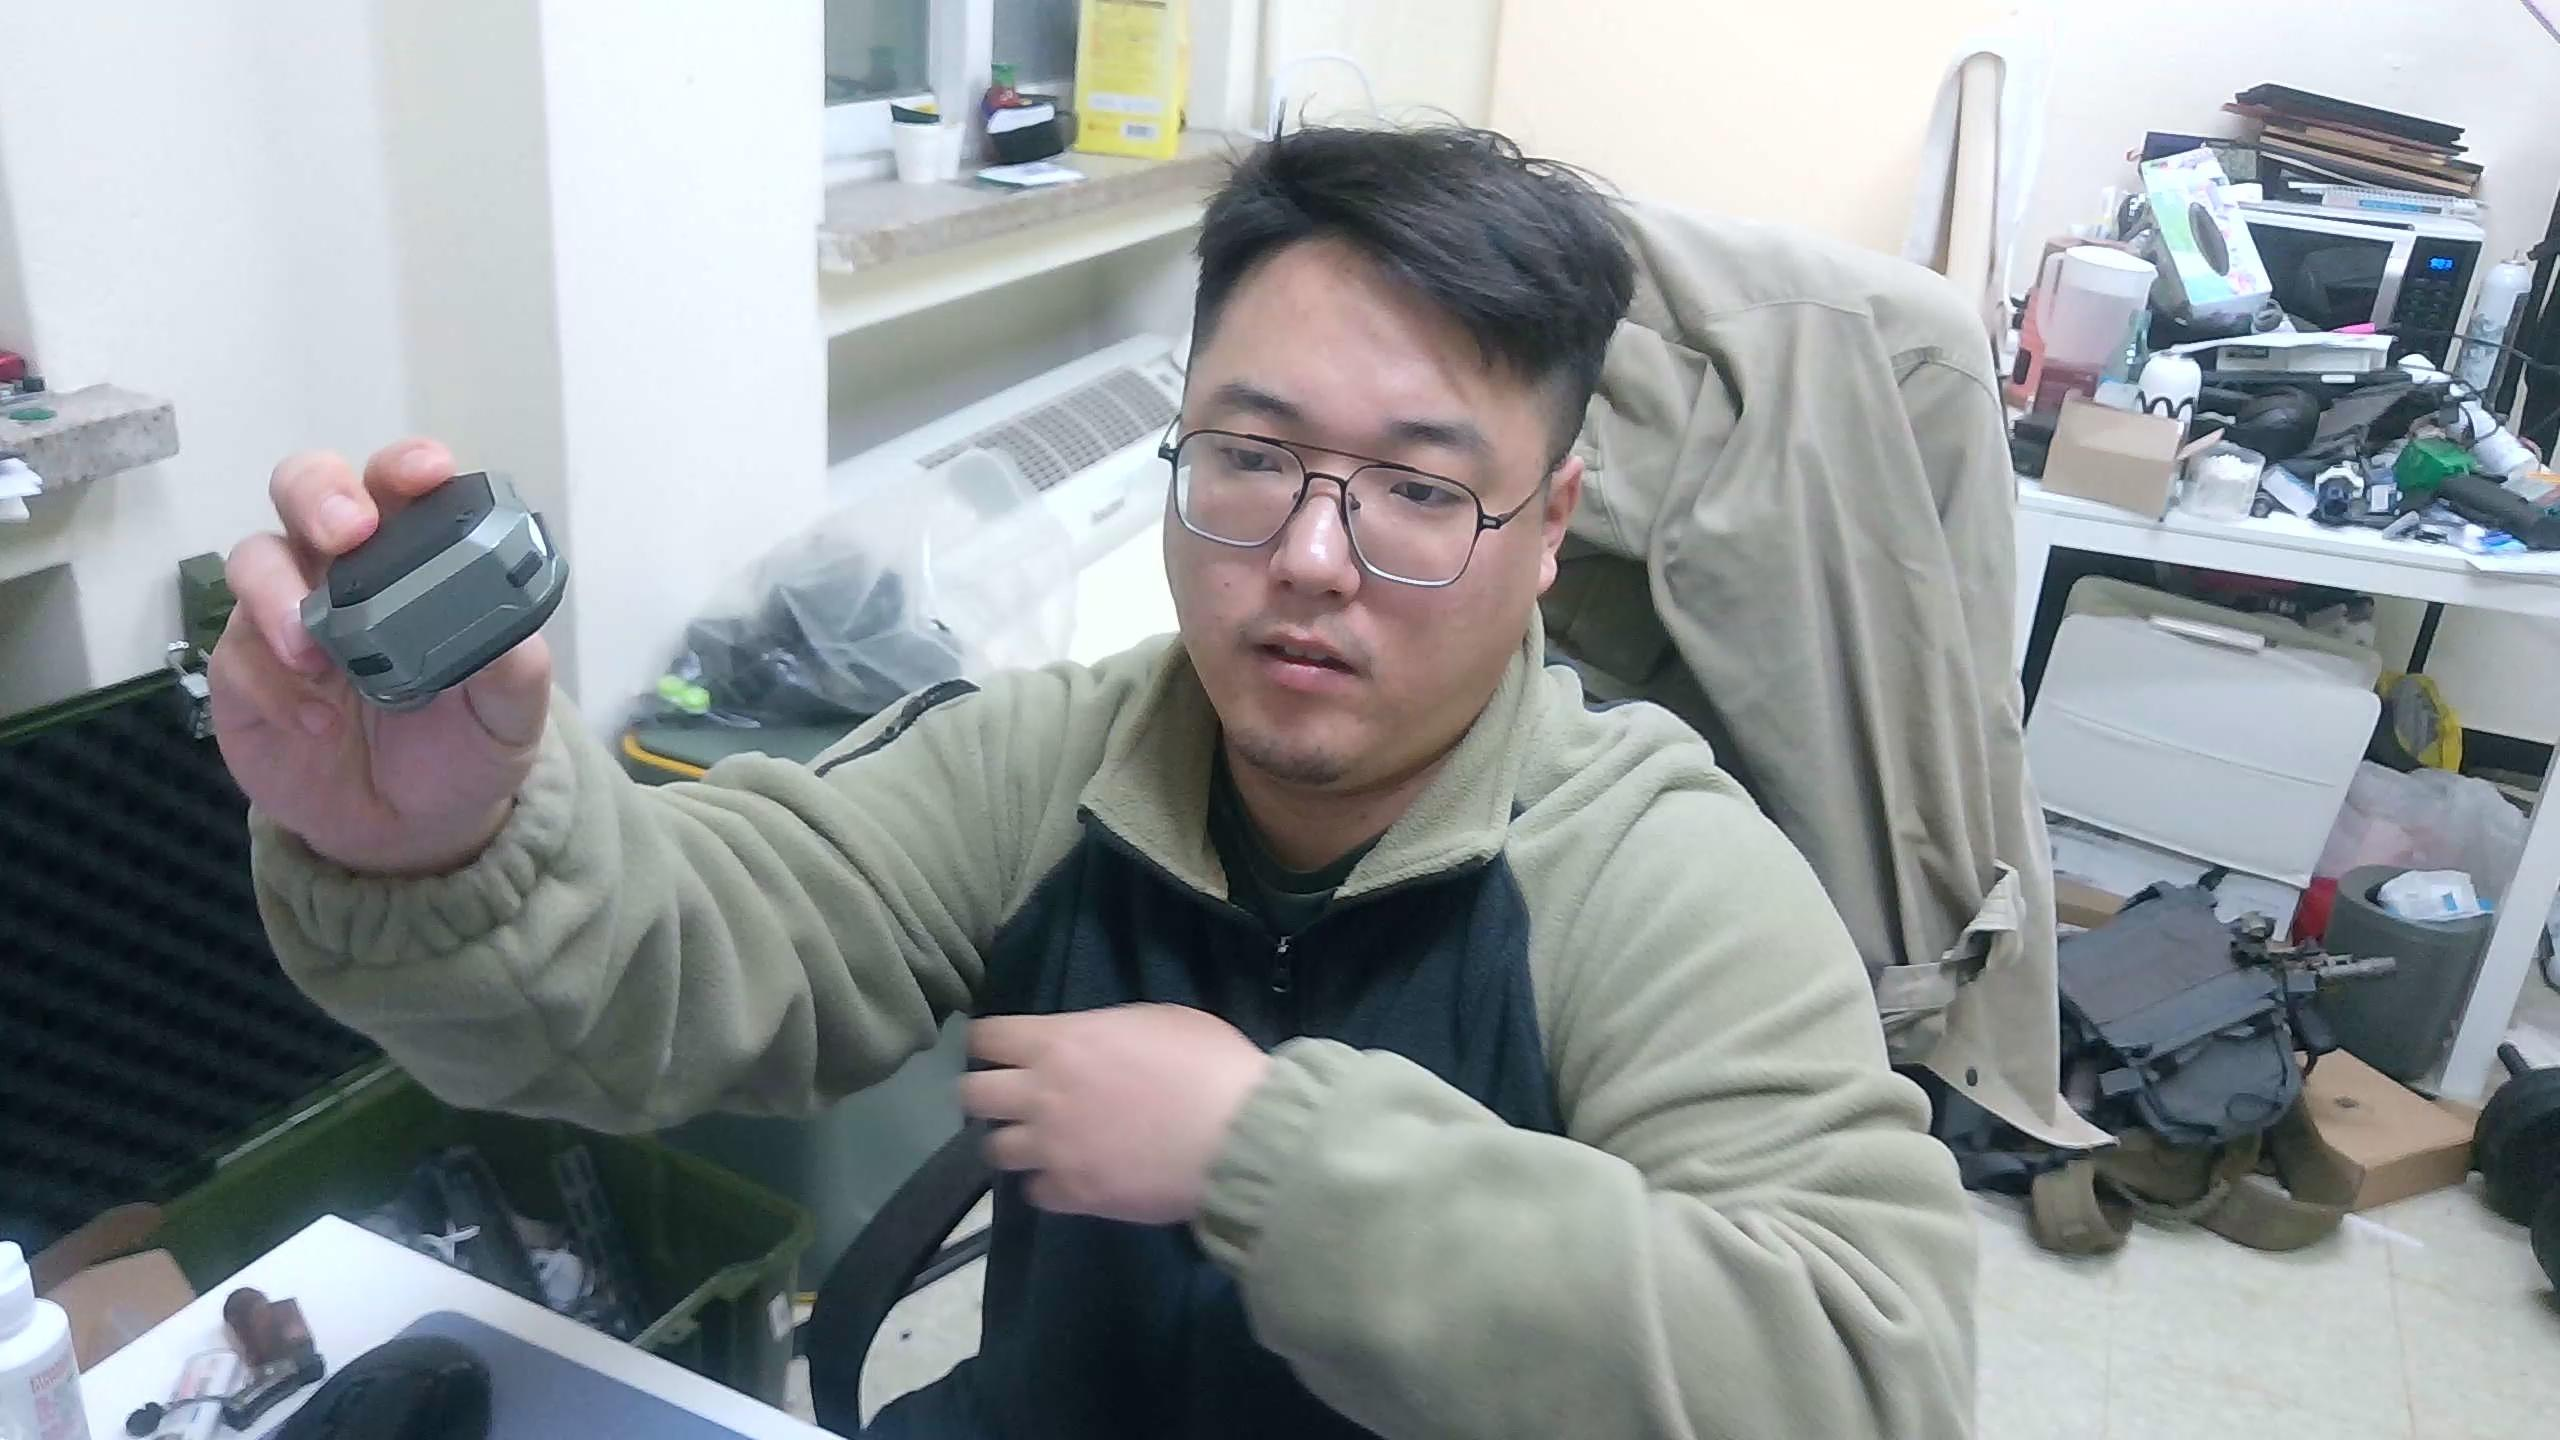blue_pliers: (299, 466, 571, 712)
